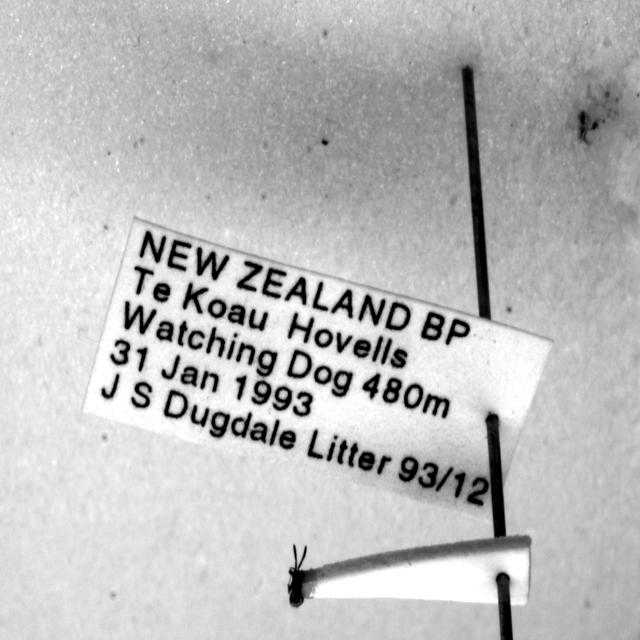typed_label: (84, 218, 552, 521)
